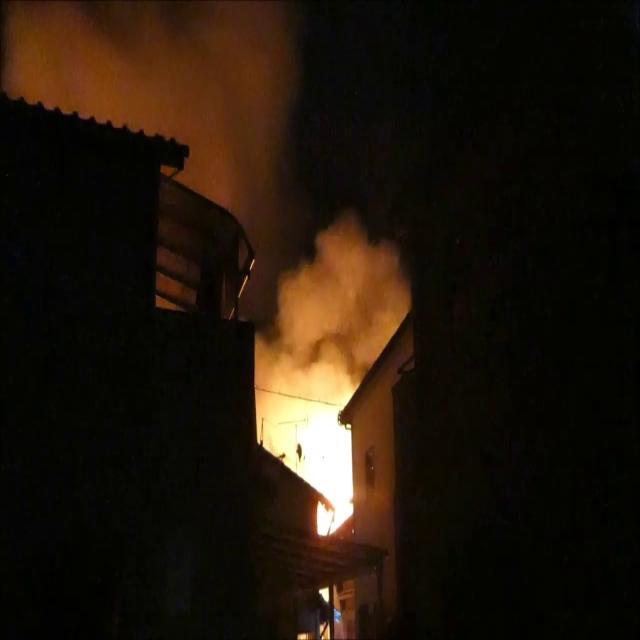Fire: (286, 382, 359, 534)
Smoke: (118, 1, 310, 256), (258, 204, 415, 424)
